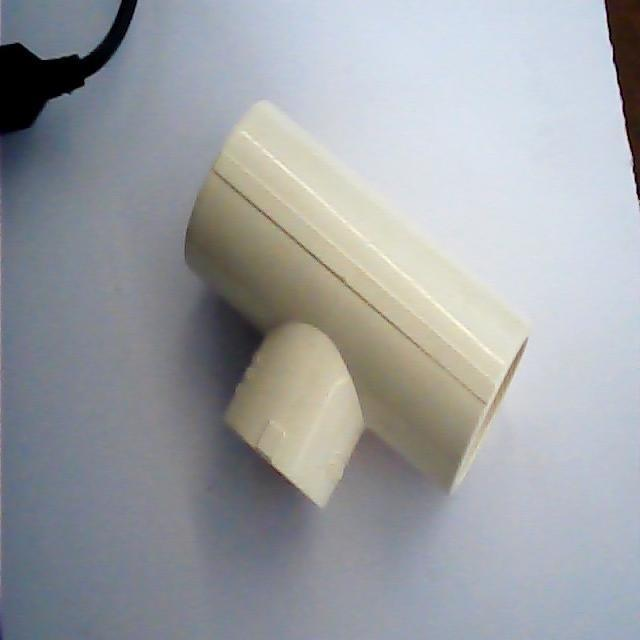T Joint: (183, 102, 532, 508)
